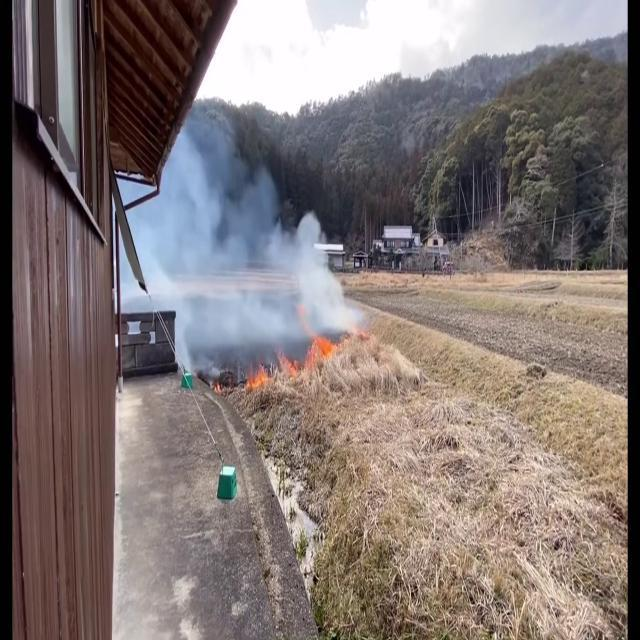Smoke: (143, 83, 351, 393)
